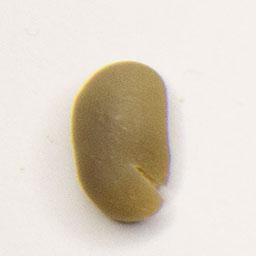premium: (70, 57, 175, 226)
